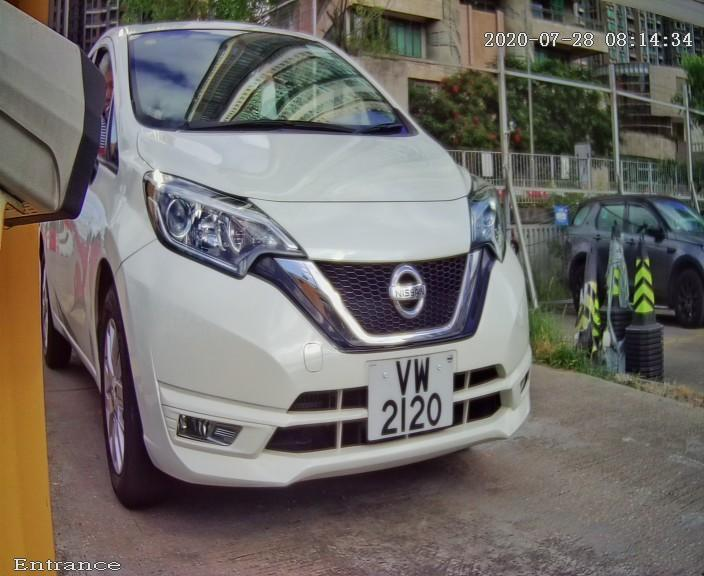privatecar: (32, 19, 588, 520)
